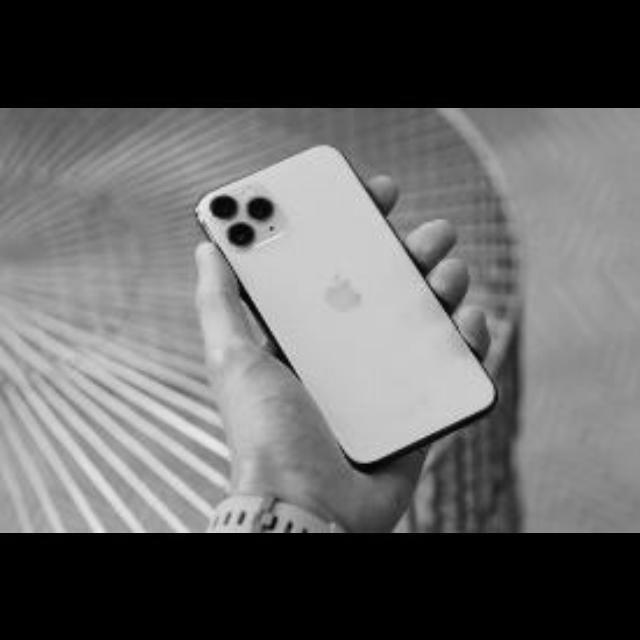fake: (179, 132, 503, 478)
